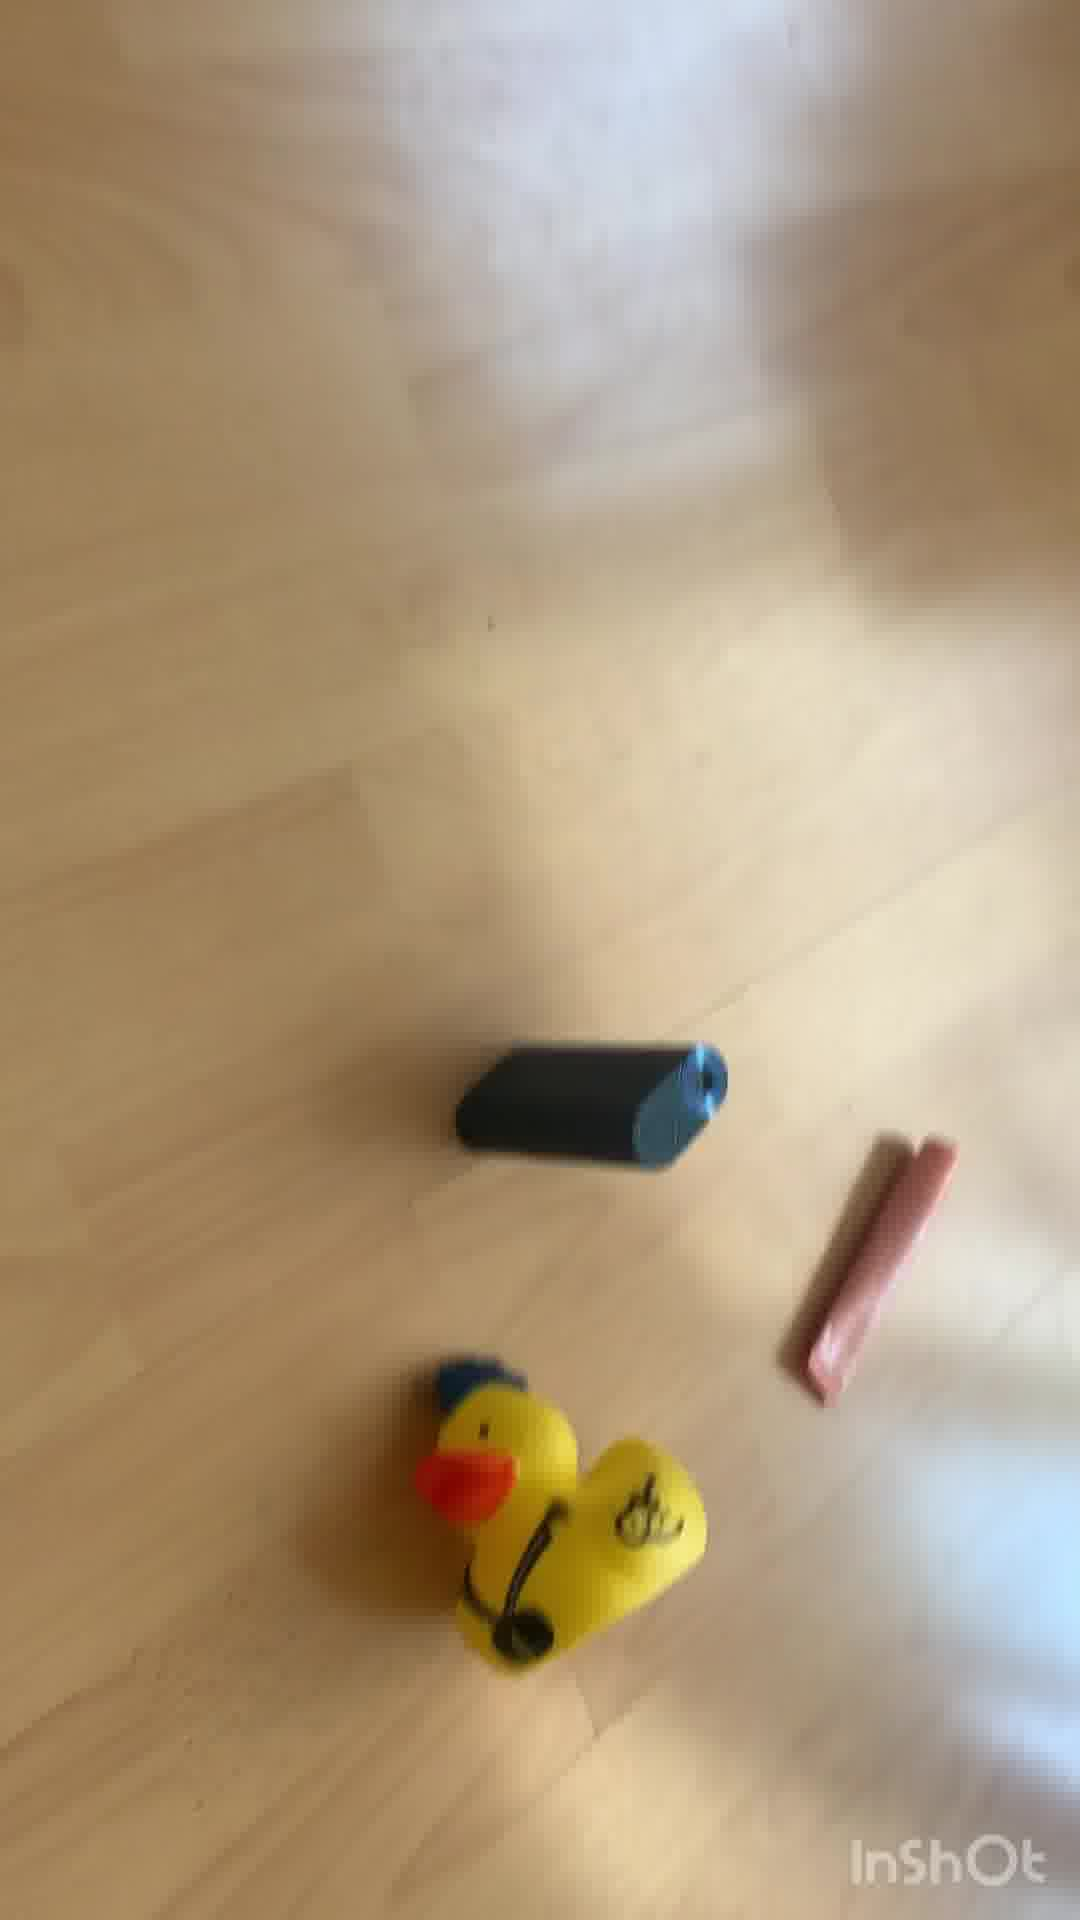duck: (410, 1328, 721, 1687)
glo: (446, 1031, 738, 1178)
lip balm: (804, 1131, 963, 1403)
